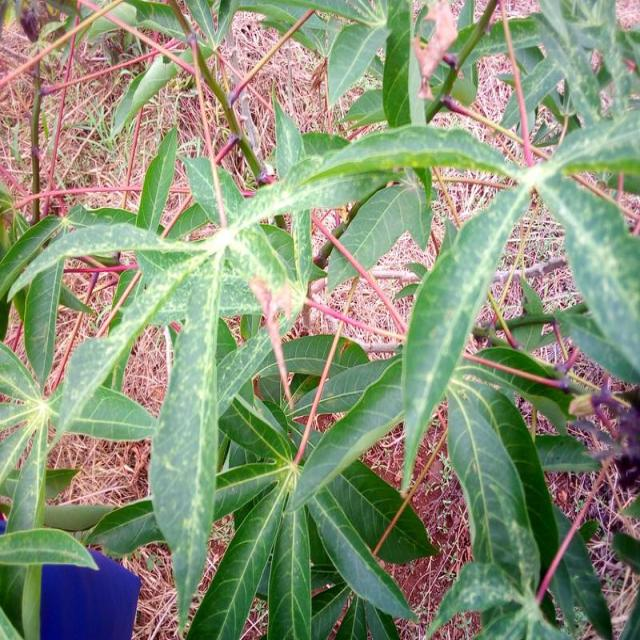cassava leaf: (0, 1, 638, 638), (398, 178, 533, 493), (147, 248, 223, 634)
